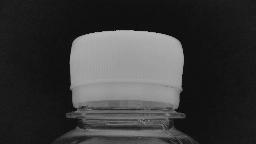Broken Cap: (61, 28, 191, 124)
